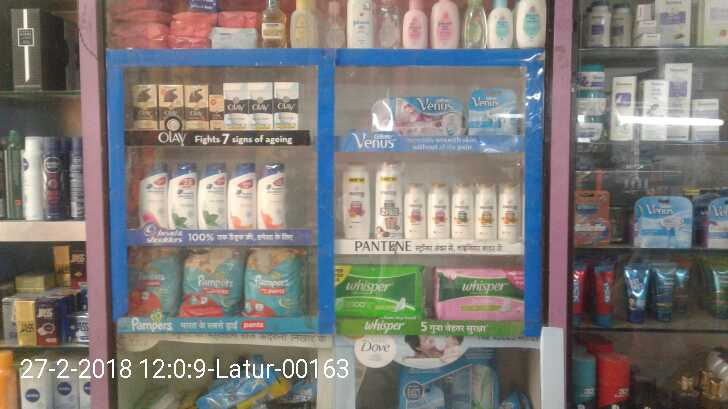gillete: (200, 359, 289, 409), (568, 190, 610, 244), (600, 353, 631, 409), (571, 353, 597, 409)
venus: (371, 97, 466, 138), (633, 194, 694, 246), (466, 88, 518, 138), (707, 197, 728, 246)
